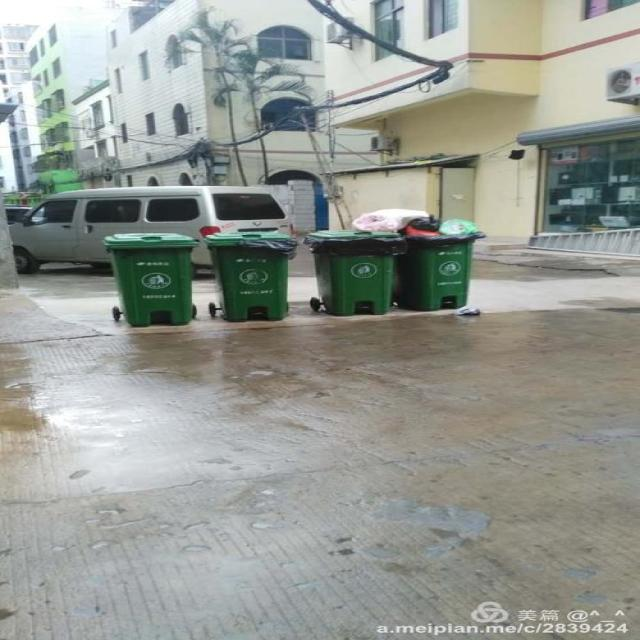garbage_bin: (101, 233, 199, 326), (302, 230, 403, 316), (204, 230, 296, 320)
overflow: (352, 209, 485, 312)
